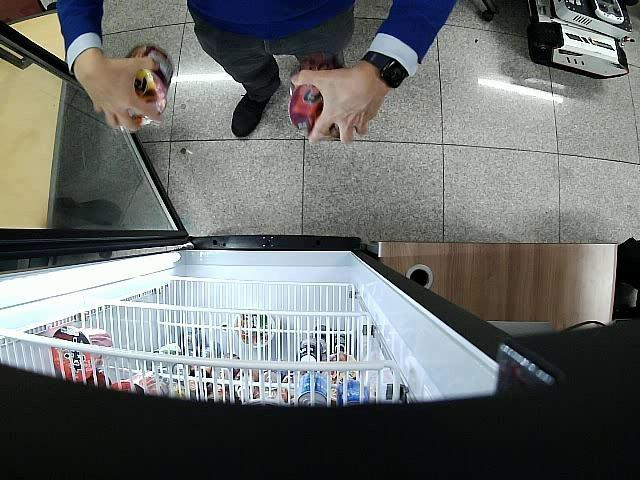05_nuguri_L: (288, 56, 346, 137), (126, 43, 174, 125)
